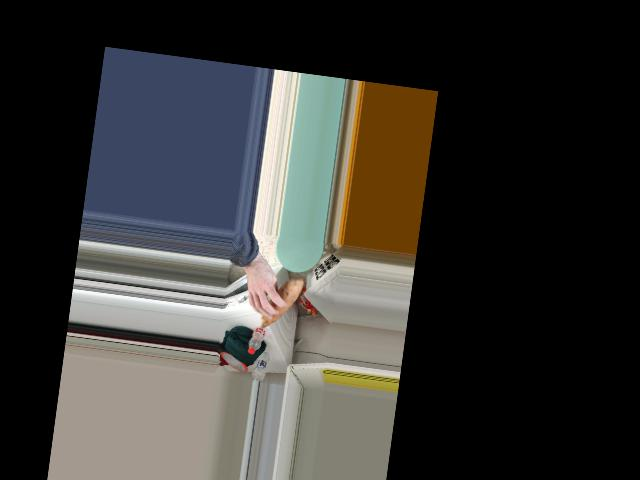sweet_potato: (254, 281, 302, 330)
